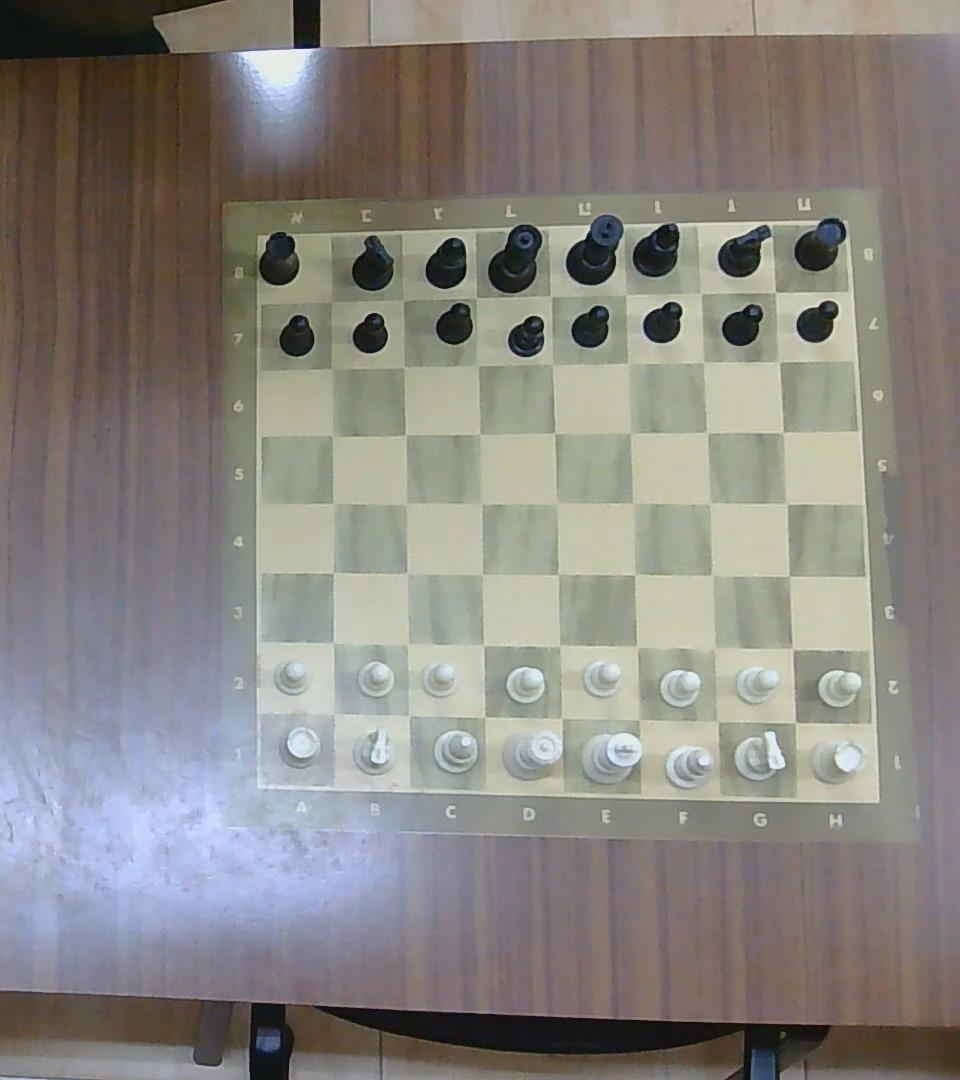xcorner: (776, 705, 810, 738), (697, 631, 731, 664), (620, 629, 652, 663), (620, 701, 654, 733), (699, 704, 732, 736), (543, 701, 576, 733), (468, 699, 500, 731), (619, 557, 650, 589), (318, 697, 349, 729), (392, 699, 423, 731), (543, 628, 574, 660), (776, 632, 807, 663), (468, 629, 499, 659), (772, 560, 803, 590), (317, 627, 347, 658), (543, 558, 573, 589), (466, 558, 496, 588), (697, 560, 727, 590), (392, 629, 422, 659), (392, 557, 422, 586), (317, 557, 346, 586), (619, 488, 648, 517), (542, 488, 571, 517), (466, 487, 495, 515), (319, 487, 348, 515), (611, 279, 639, 307), (463, 284, 491, 312), (694, 489, 723, 516), (615, 418, 644, 445), (317, 420, 345, 447), (392, 489, 420, 516), (538, 349, 566, 376), (465, 420, 493, 447), (614, 349, 642, 376), (771, 490, 801, 515), (693, 417, 721, 443), (317, 287, 345, 313), (542, 420, 569, 446), (538, 283, 564, 310), (391, 421, 419, 446), (769, 419, 797, 444), (317, 355, 345, 380), (688, 280, 714, 306), (465, 351, 491, 377), (389, 353, 416, 378), (762, 279, 788, 304), (690, 348, 715, 373), (766, 349, 791, 372), (391, 286, 414, 310)
